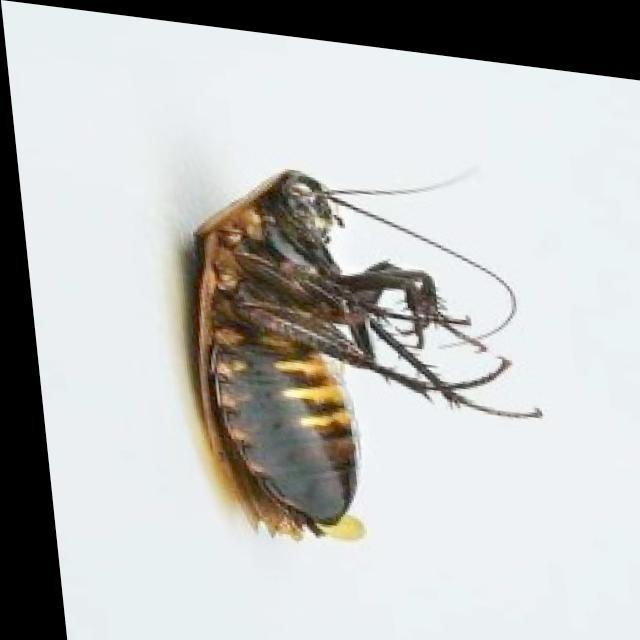cockroach: (184, 163, 546, 545), (190, 168, 368, 541)
